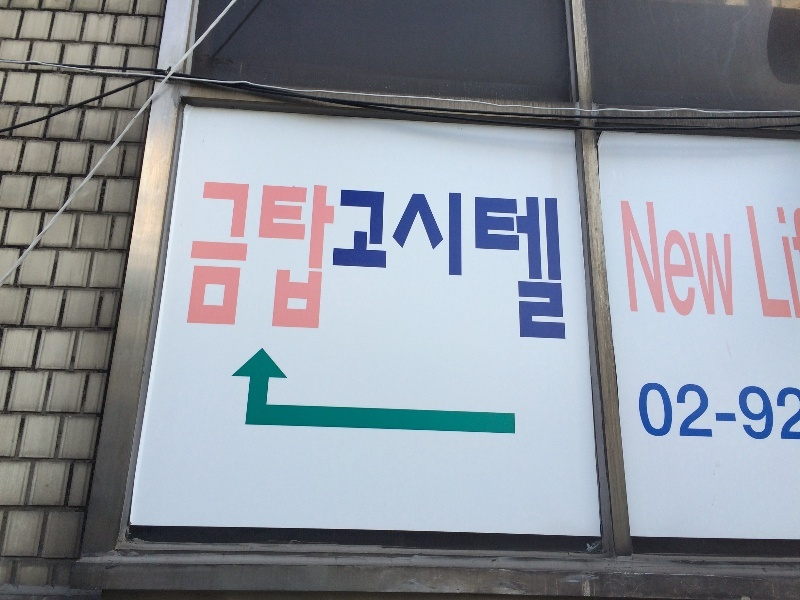text: (193, 167, 208, 339), (209, 167, 224, 339), (225, 167, 240, 339), (241, 167, 256, 339), (257, 167, 272, 339), (273, 167, 288, 339), (289, 167, 304, 339), (305, 167, 320, 339), (321, 167, 336, 339), (337, 180, 352, 350), (353, 180, 368, 350), (369, 180, 384, 350), (385, 180, 400, 350), (401, 180, 416, 350), (417, 180, 432, 350), (433, 180, 448, 350), (449, 180, 464, 350), (465, 180, 480, 350), (481, 180, 496, 350), (497, 180, 512, 350), (513, 180, 528, 350), (529, 180, 544, 350), (545, 180, 560, 350), (625, 195, 640, 328), (641, 195, 656, 328), (657, 195, 672, 328), (673, 195, 688, 328), (689, 195, 704, 328), (705, 195, 720, 328), (721, 195, 736, 328), (753, 198, 768, 325), (769, 198, 784, 325), (785, 198, 800, 325), (737, 195, 749, 328), (561, 180, 570, 350), (742, 198, 752, 325), (616, 195, 624, 328), (641, 378, 656, 447), (657, 378, 672, 447), (673, 378, 688, 447), (689, 378, 704, 447), (753, 383, 768, 448), (769, 383, 784, 448), (785, 383, 800, 448), (705, 378, 718, 447), (739, 383, 752, 448), (721, 399, 736, 437), (337, 167, 340, 339), (634, 378, 640, 447), (712, 399, 720, 437), (737, 399, 742, 437)
